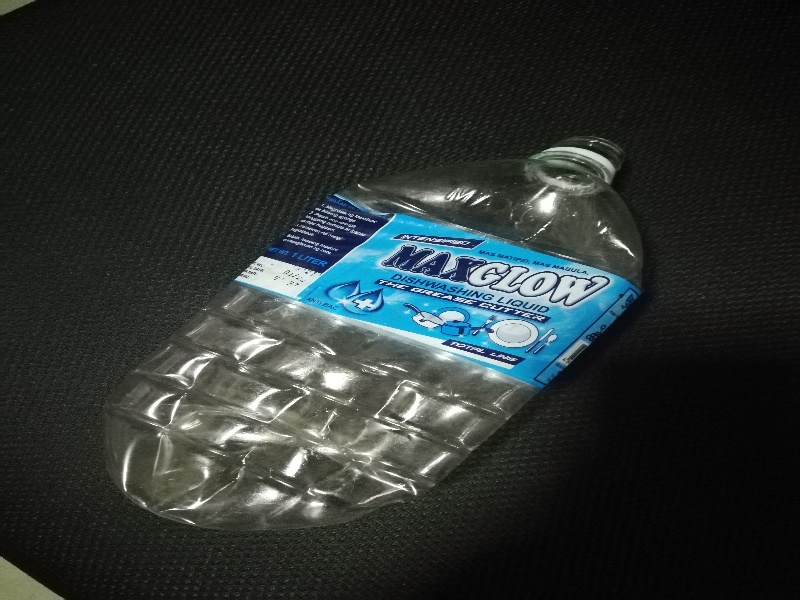PET #1: (100, 130, 646, 535)
